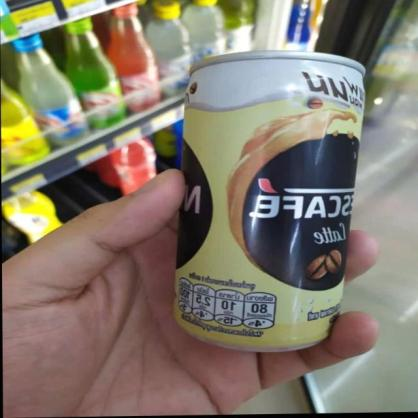can: (169, 48, 368, 354)
